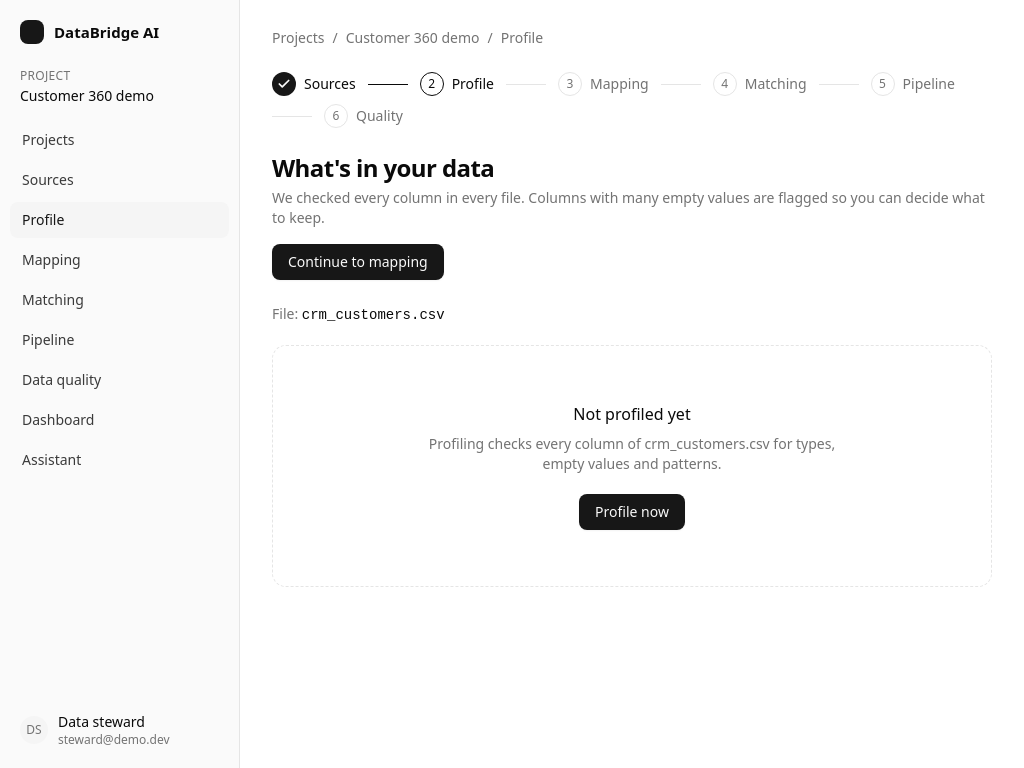
profile page › offers "Profile now" for a file that was not profiled yet
This screenshot has width=1024, height=768.
Expected: the heading "Not profiled yet" is shown, [573,402,691,426]
Step 1. Click the button "Profile now" → (632,512), box [579,494,685,530]
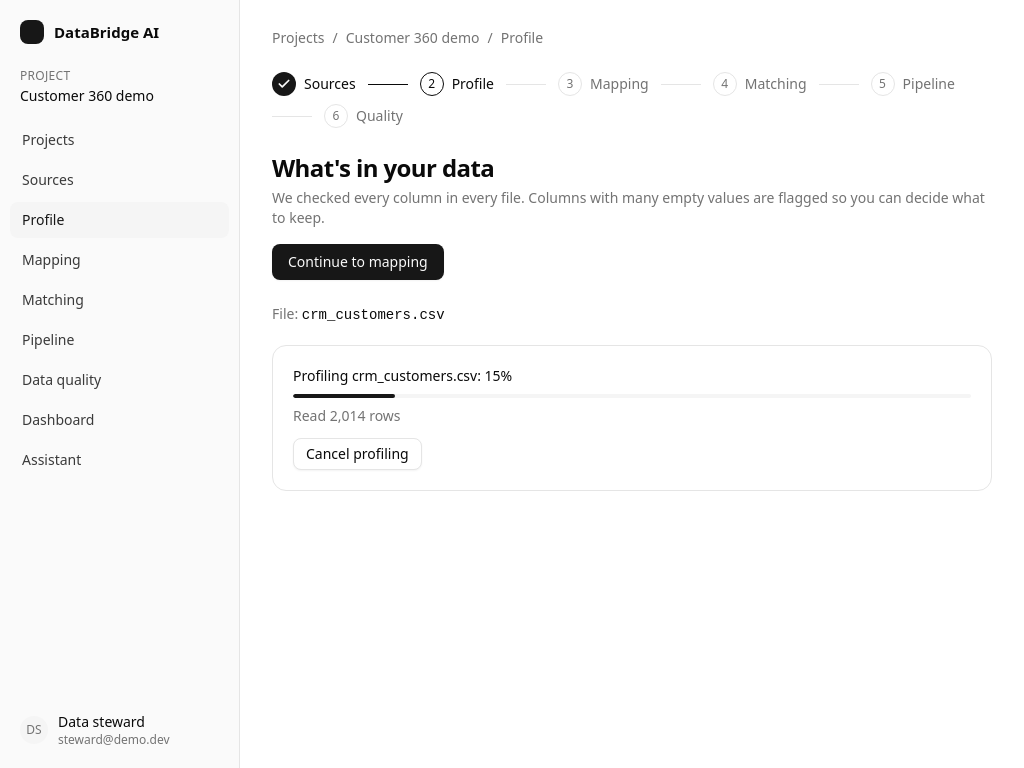
Expected: the text "Profiling crm_customers.csv: 15%" is shown, [293,366,512,385]
Expected: the text "Read 2,014 rows" is shown, [293,406,400,425]
